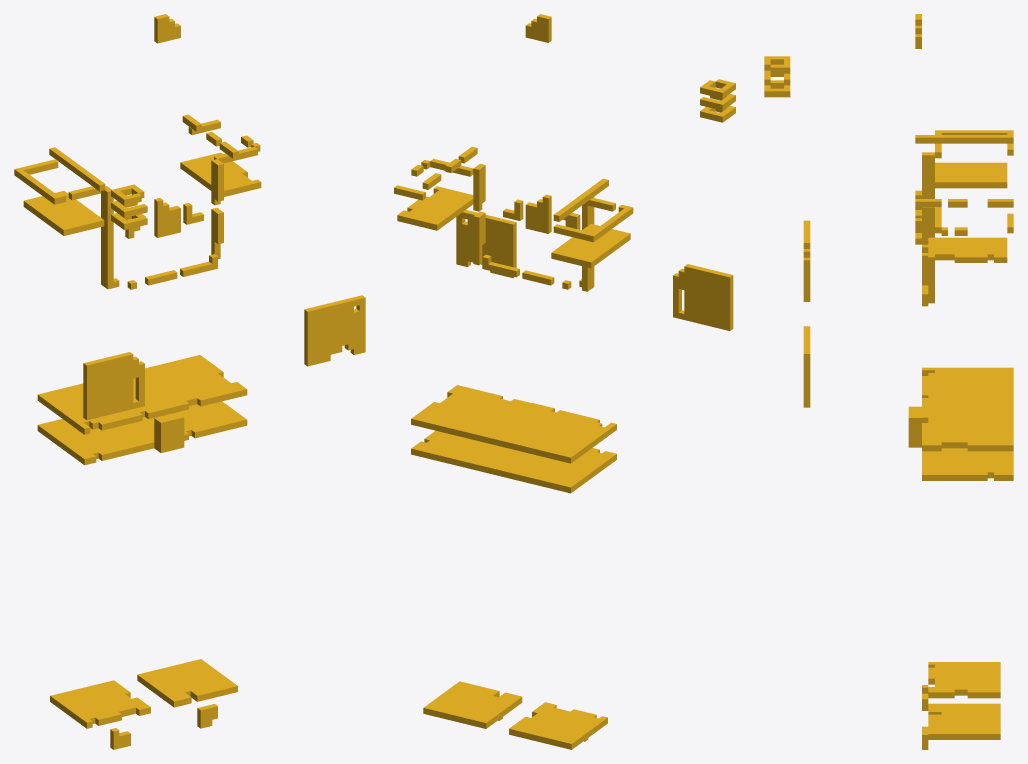
The model's file is Anubis_50-7.obj.
3 views of the same model, side by side, from view 1: azimuth 30°, elevation 25°; view 2: azimuth 150°, elevation 25°; view 3: azimuth 270°, elevation 25° (orthographic). The views are drawn at different scales.
Bounding box in the file's own units: 4.8 × 11.9 × 3.8.
Materials: 1 (1 with a texture image).
